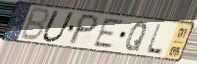B: (18, 6, 52, 43)
E: (92, 17, 125, 49)
L: (144, 23, 164, 57)
P: (66, 12, 102, 46)
Q: (123, 21, 149, 53)
U: (39, 8, 78, 44)
